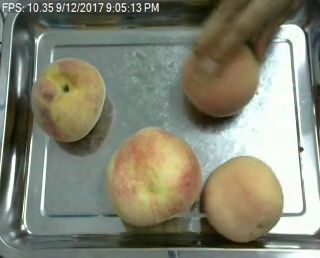Peach: (106, 127, 202, 225), (204, 155, 285, 243), (31, 57, 106, 141), (182, 40, 257, 117)
